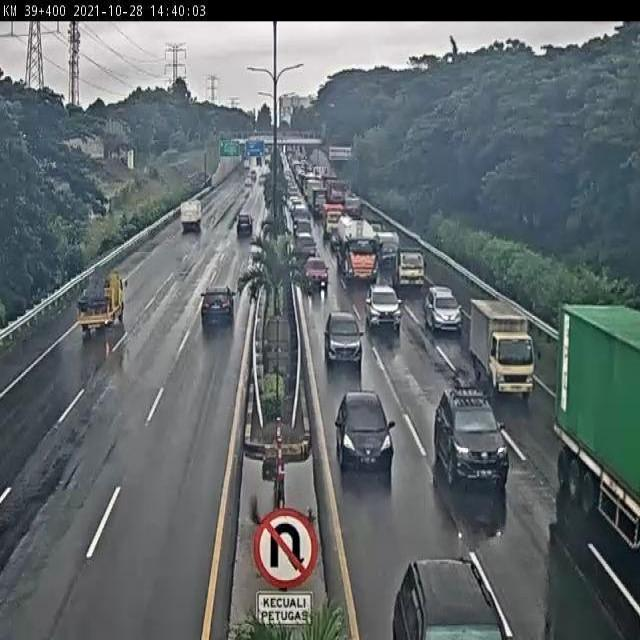big truck: (555, 304, 640, 532), (334, 209, 376, 280)
car: (434, 388, 511, 485), (332, 391, 395, 469), (324, 314, 361, 362), (424, 288, 463, 333), (367, 287, 402, 328), (201, 282, 236, 318), (302, 255, 328, 284)
mid truck: (234, 218, 251, 238)
small truck: (471, 299, 536, 393), (76, 275, 125, 333), (392, 243, 428, 289)
